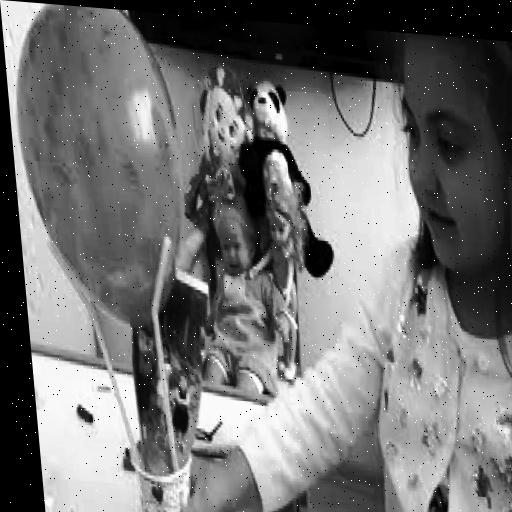balloon: (6, 0, 197, 334)
